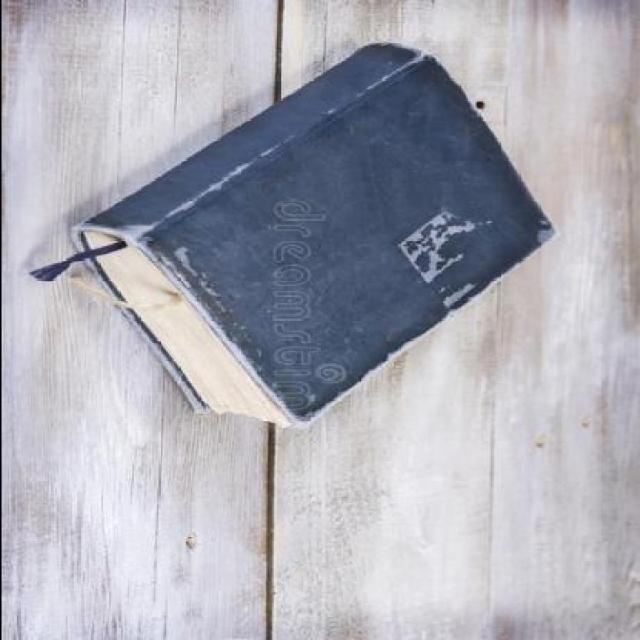book: (26, 0, 584, 512)
